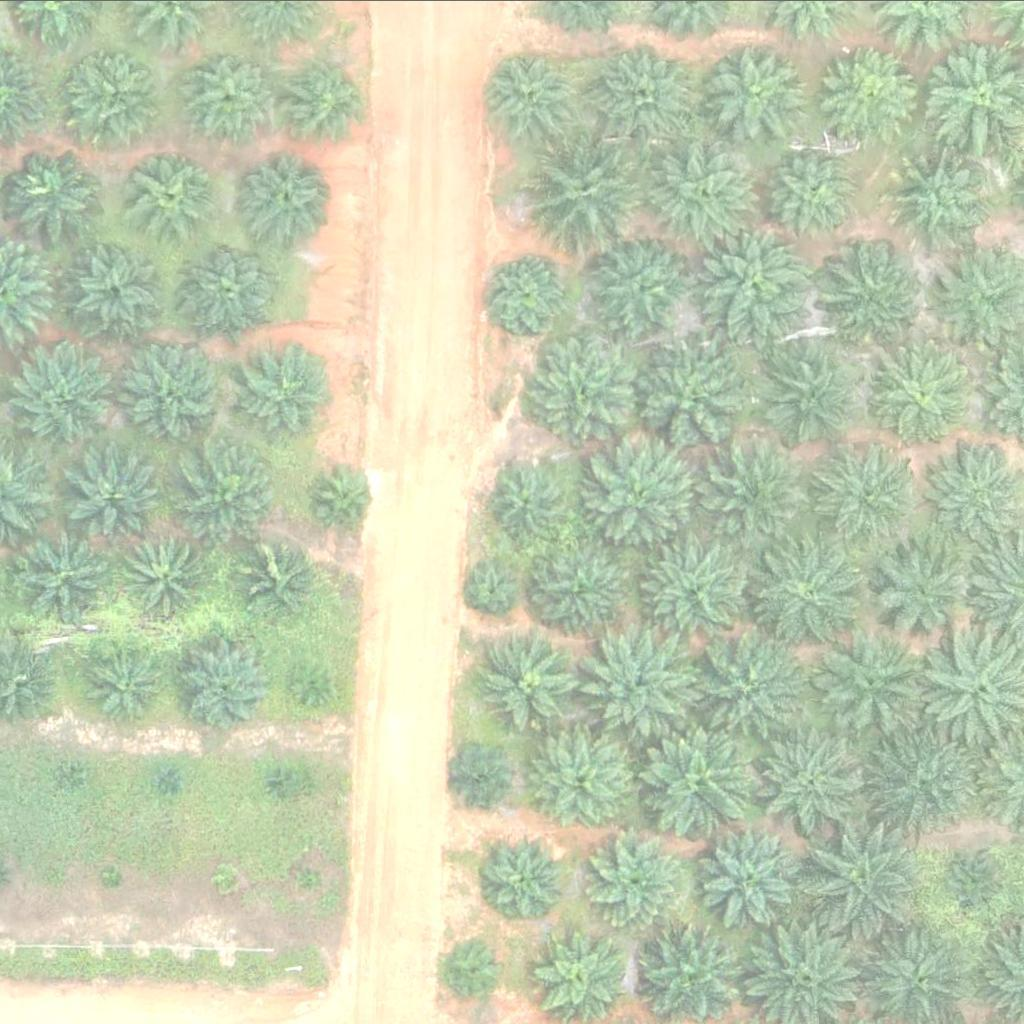Kelapa_Sawit: (804, 814, 930, 939), (635, 713, 761, 838), (864, 717, 990, 842), (684, 630, 810, 755), (746, 525, 872, 650), (519, 325, 645, 450), (630, 337, 756, 462), (694, 217, 820, 342), (520, 126, 646, 251), (643, 130, 769, 255), (638, 529, 763, 654), (584, 628, 697, 741), (816, 627, 929, 740), (872, 532, 985, 645), (169, 629, 282, 741), (696, 818, 809, 930), (753, 727, 866, 839), (587, 440, 700, 552), (699, 439, 812, 551), (11, 527, 112, 627), (178, 440, 279, 540), (123, 346, 224, 446), (233, 341, 334, 441), (589, 834, 690, 934), (530, 730, 631, 830), (478, 630, 579, 730), (532, 541, 633, 641), (766, 342, 867, 442), (867, 341, 968, 441), (822, 234, 923, 334), (890, 143, 991, 243), (1, 146, 101, 246), (15, 346, 115, 446), (182, 235, 282, 335), (233, 143, 333, 243), (179, 41, 279, 141), (591, 236, 691, 336), (483, 46, 583, 146), (599, 42, 699, 142), (706, 42, 806, 142), (823, 40, 923, 140), (80, 635, 169, 723), (74, 250, 162, 338), (124, 529, 212, 617), (534, 931, 622, 1019), (483, 832, 571, 920), (822, 451, 910, 539), (75, 51, 163, 138), (76, 450, 164, 537), (125, 148, 213, 235), (282, 54, 370, 141), (773, 147, 861, 234), (488, 254, 564, 329), (242, 535, 317, 610), (491, 463, 566, 538), (315, 468, 378, 531), (950, 846, 1013, 909), (453, 745, 516, 808), (446, 936, 509, 998), (470, 563, 520, 613), (291, 663, 329, 701), (67, 766, 92, 791), (102, 864, 127, 889), (214, 868, 239, 893), (298, 865, 323, 890), (156, 765, 181, 790), (266, 772, 291, 797)
